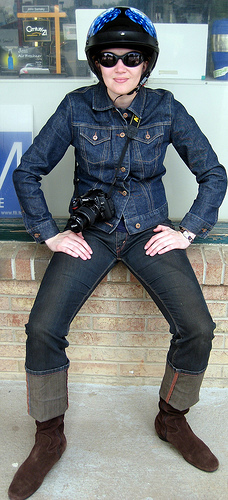helmet: (76, 13, 170, 56)
